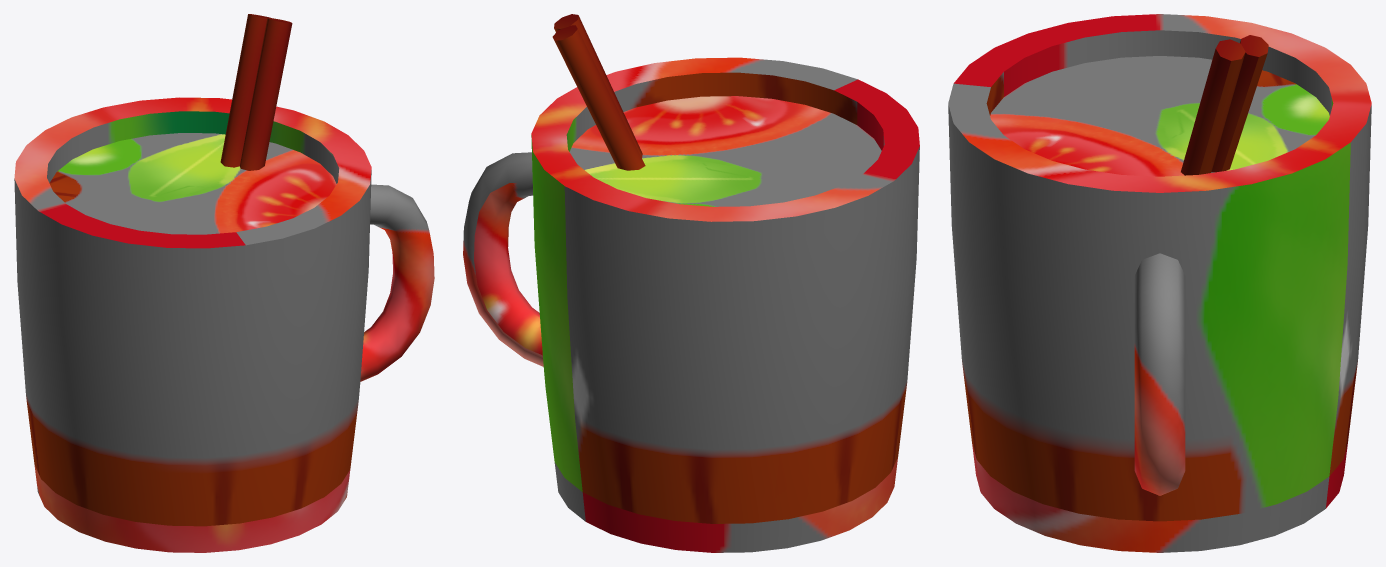
The model's file is Lab_6_apple_grog low.fbx.
3 views of the same model, side by side, from view 1: azimuth 30°, elevation 25°; view 2: azimuth 150°, elevation 25°; view 3: azimuth 270°, elevation 25° (orthographic). The views are drawn at different scales.
Parts seen in each view (by area): view 1: Circle.002, Circle.004, Circle.006, Cylinder.003; view 2: Circle.002, Circle.004, Circle.006, Cylinder.003; view 3: Circle.002, Circle.004, Circle.006, Cylinder.003.
Part boxes in pixels (x1,y1,x2,y2): Circle.002: (14,97,371,552); Circle.004: (49,133,336,234); Circle.006: (360,184,434,381); Cylinder.003: (220,14,292,170); Circle.002: (531,57,919,552); Circle.004: (569,96,881,206); Circle.006: (463,152,543,366); Cylinder.003: (552,14,645,170); Circle.002: (948,14,1371,552); Circle.004: (990,56,1329,176); Circle.006: (1134,253,1185,495); Cylinder.003: (1181,35,1268,175).
Bounding box in the file's own units: 3.95 × 4.03 × 3.11.
